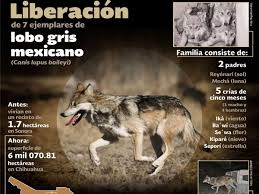Lobo: (62, 82, 202, 165), (179, 8, 208, 46), (201, 174, 240, 193), (212, 2, 232, 28), (217, 28, 236, 51)
